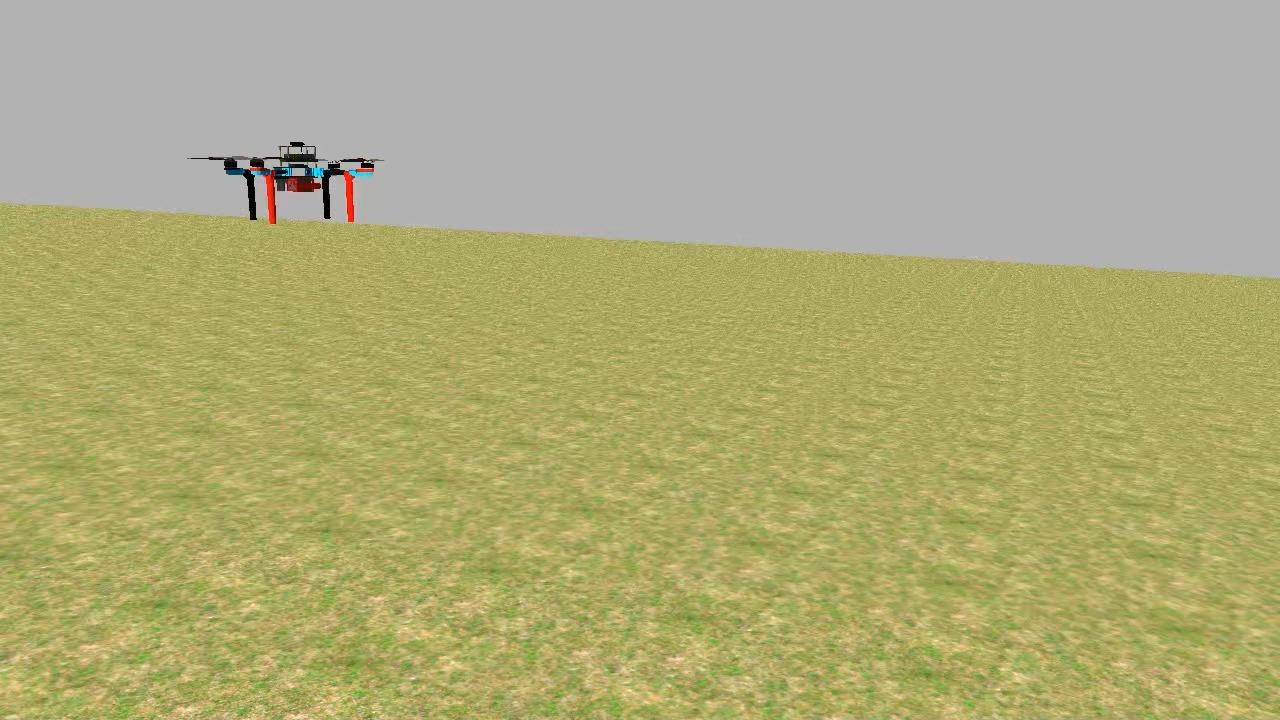UAV: (214, 136, 386, 228)
